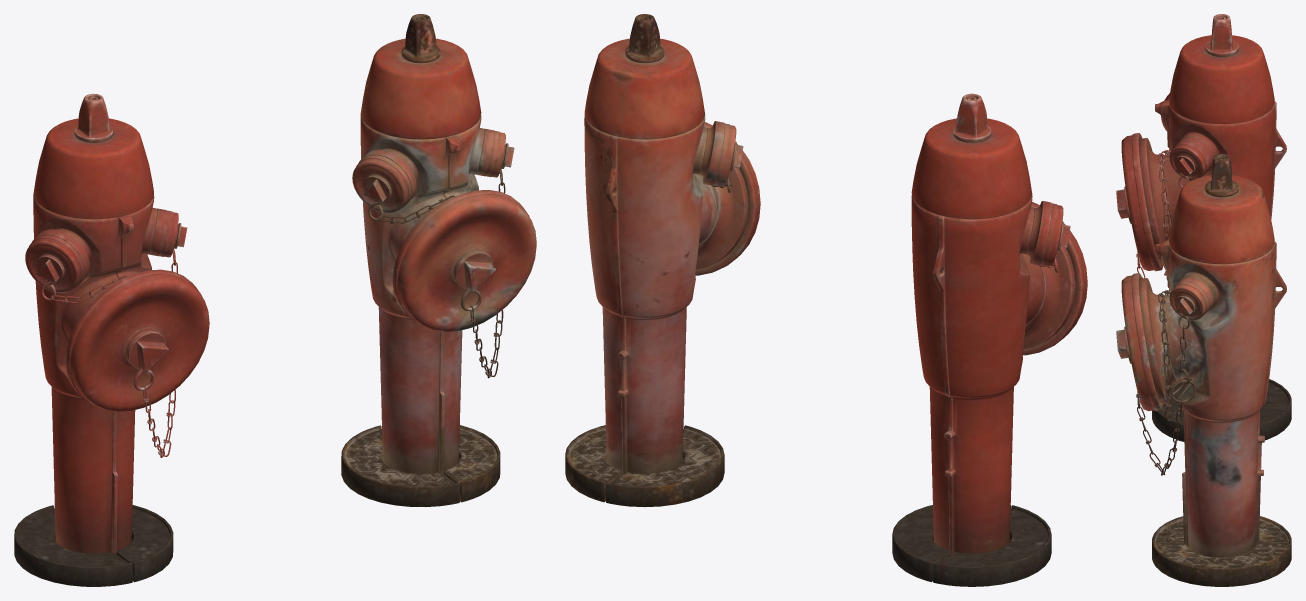
The model's file is fire_hydrant.glb.
The picture shows the model from 3 angles, left to right: view 1: azimuth 30°, elevation 25°; view 2: azimuth 150°, elevation 25°; view 3: azimuth 270°, elevation 25°; orthographic projection. The views are drawn at different scales.
Parts seen in each view (by area): view 1: fire_hydrant_aged, fire_hydrant, fire_hydrant_cap_01, fire_hydrant_cap_01_aged, fire_hydrant_cap_03_aged, fire_hydrant_cap_03, fire_hydrant_chain_aged, fire_hydrant_chain, fire_hydrant_cap_02, fire_hydrant_cap_02_aged; view 2: fire_hydrant, fire_hydrant_aged, fire_hydrant_cap_01_aged, fire_hydrant_cap_01, fire_hydrant_cap_03_aged, fire_hydrant_cap_03; view 3: fire_hydrant_aged, fire_hydrant, fire_hydrant_cap_01, fire_hydrant_cap_01_aged, fire_hydrant_chain_aged, fire_hydrant_cap_02_aged, fire_hydrant_cap_02, fire_hydrant_chain.
Boxes of the visible parts, box(x1,y1,x2,y2) form: fire_hydrant_aged: box(341, 14, 500, 506); fire_hydrant: box(14, 93, 173, 586); fire_hydrant_cap_01: box(65, 269, 209, 411); fire_hydrant_cap_01_aged: box(392, 190, 536, 331); fire_hydrant_cap_03_aged: box(352, 155, 411, 213); fire_hydrant_cap_03: box(25, 235, 84, 293); fire_hydrant_chain_aged: box(368, 145, 505, 378); fire_hydrant_chain: box(41, 224, 178, 457); fire_hydrant_cap_02: box(159, 210, 187, 257); fire_hydrant_cap_02_aged: box(486, 130, 514, 177); fire_hydrant: box(892, 93, 1075, 586); fire_hydrant_aged: box(565, 14, 748, 507); fire_hydrant_cap_01_aged: box(695, 122, 760, 275); fire_hydrant_cap_01: box(1022, 202, 1087, 355); fire_hydrant_cap_03_aged: box(713, 123, 743, 186); fire_hydrant_cap_03: box(1041, 203, 1070, 266); fire_hydrant_aged: box(1139, 154, 1291, 586); fire_hydrant: box(1139, 14, 1291, 441); fire_hydrant_cap_01: box(1116, 133, 1162, 271); fire_hydrant_cap_01_aged: box(1116, 273, 1162, 411); fire_hydrant_chain_aged: box(1136, 289, 1196, 475); fire_hydrant_cap_02_aged: box(1169, 281, 1209, 320); fire_hydrant_cap_02: box(1169, 141, 1209, 180); fire_hydrant_chain: box(1136, 149, 1194, 279).
Bounding box in the file's own units: 0.8746 × 0.7995 × 0.3177.
2 materials, 2 textured.
